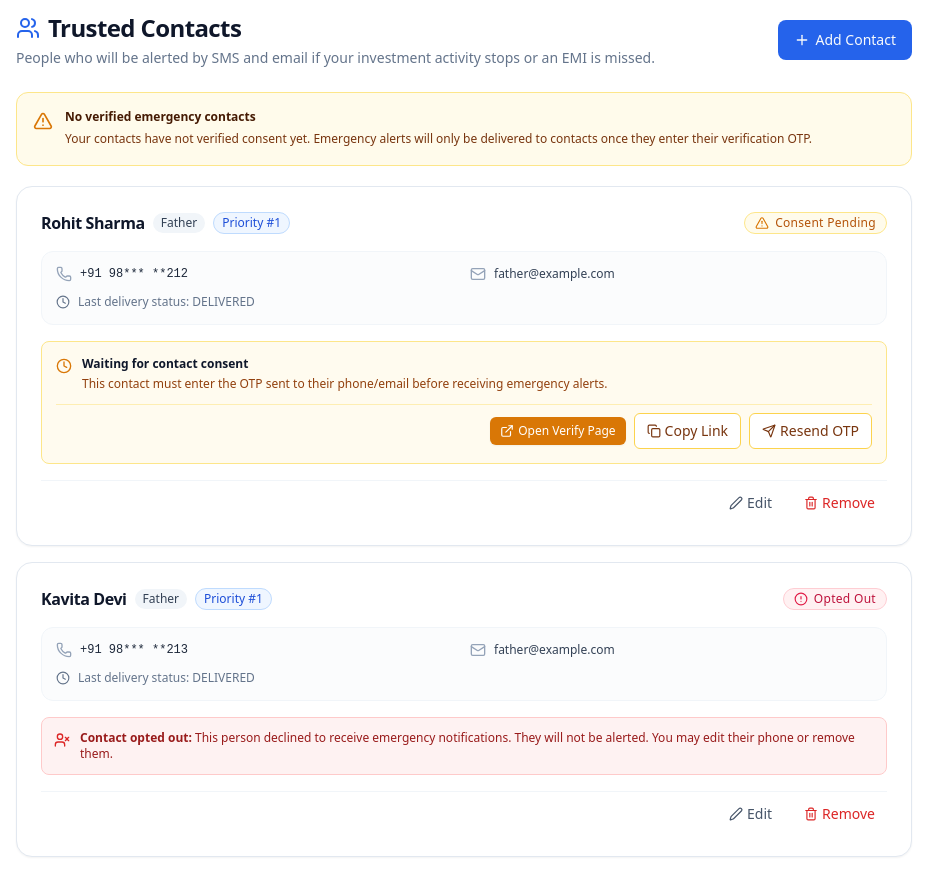
Test: Contacts Feature (Phase 5) › shows resend button for PENDING consent and explanation with NO resend for OPTED_OUT
expect the heading "Rohit Sharma" is shown: met, box [41, 210, 145, 234]
expect the heading "Kavita Devi" is shown: met, box [41, 586, 127, 610]
Click the button "Resend OTP": (811, 430) [749, 412, 872, 448]
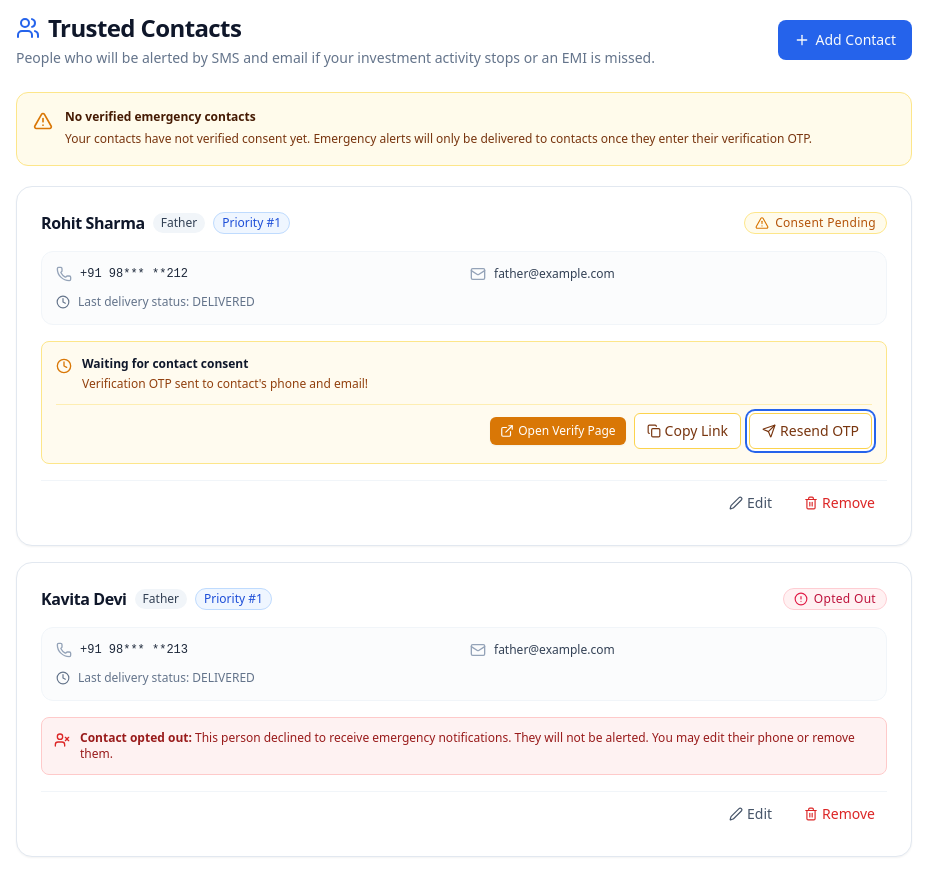
expect the text "Contact opted out:" is shown: met, box [80, 728, 192, 746]
expect the text "Verification OTP sent to contact's phone and email!" is shown: met, box [82, 376, 368, 392]
